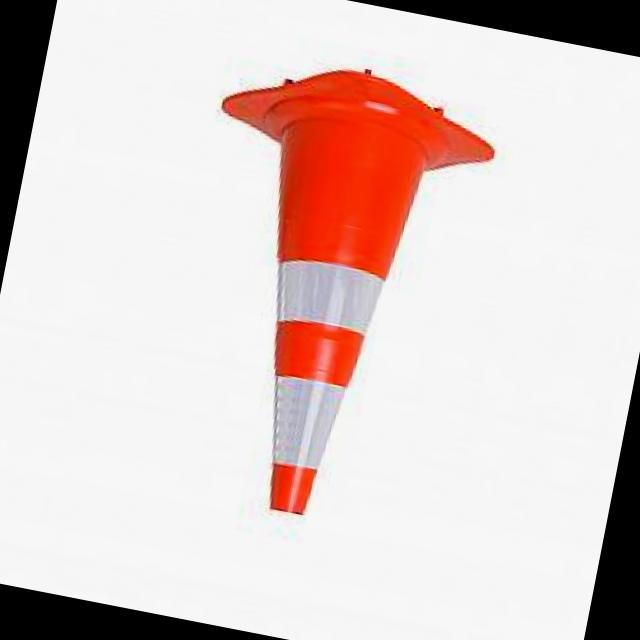cone: (124, 13, 540, 566)
